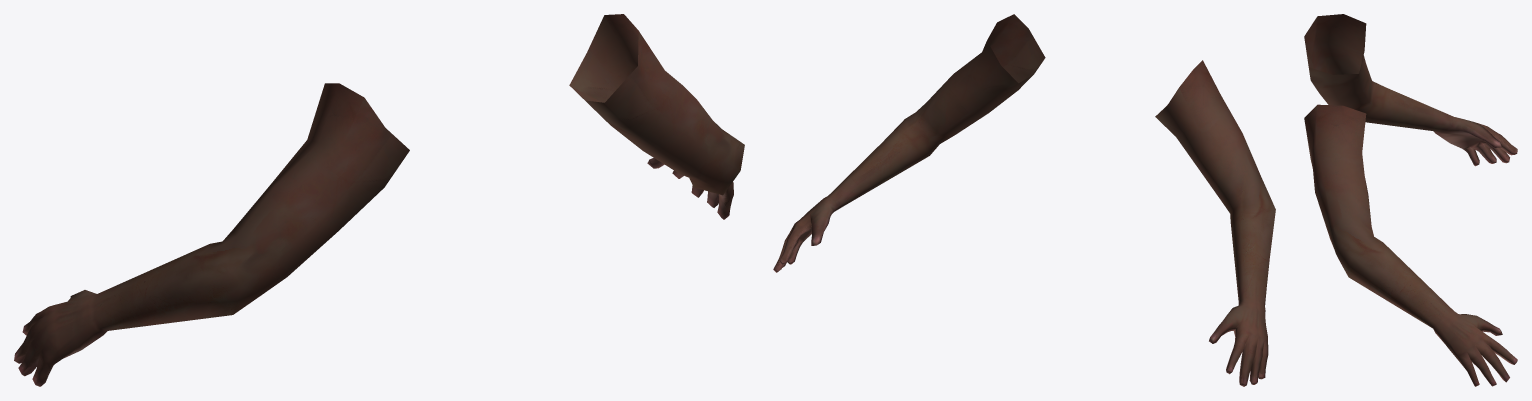
The model's file is arms_pistol.glb.
3 views of the same model, side by side, from view 1: azimuth 30°, elevation 25°; view 2: azimuth 150°, elevation 25°; view 3: azimuth 270°, elevation 25° (orthographic). The views are drawn at different scales.
Visible parts, largest first — view 1: arms_mesh; view 2: arms_mesh; view 3: arms_mesh.
Part boxes in pixels (left/top/right/bottom): arms_mesh: left=14, top=14, right=744, bottom=386; arms_mesh: left=773, top=14, right=1275, bottom=386; arms_mesh: left=1304, top=14, right=1517, bottom=386.
Size of the model in its own units: 10.97 by 4.93 by 4.41.
1 material, 1 textured.
